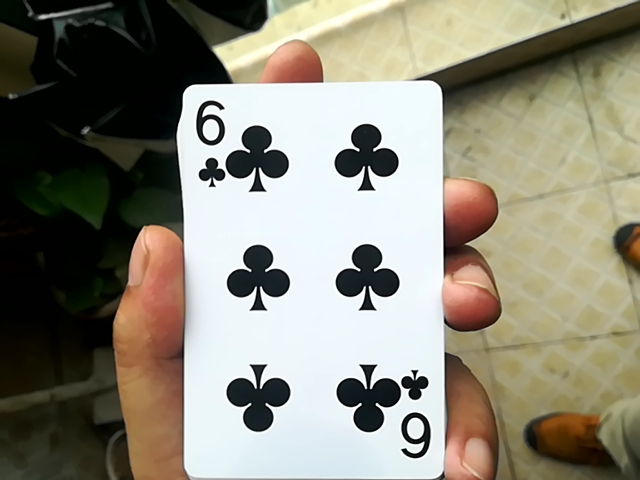mh 6: (167, 74, 455, 478)
